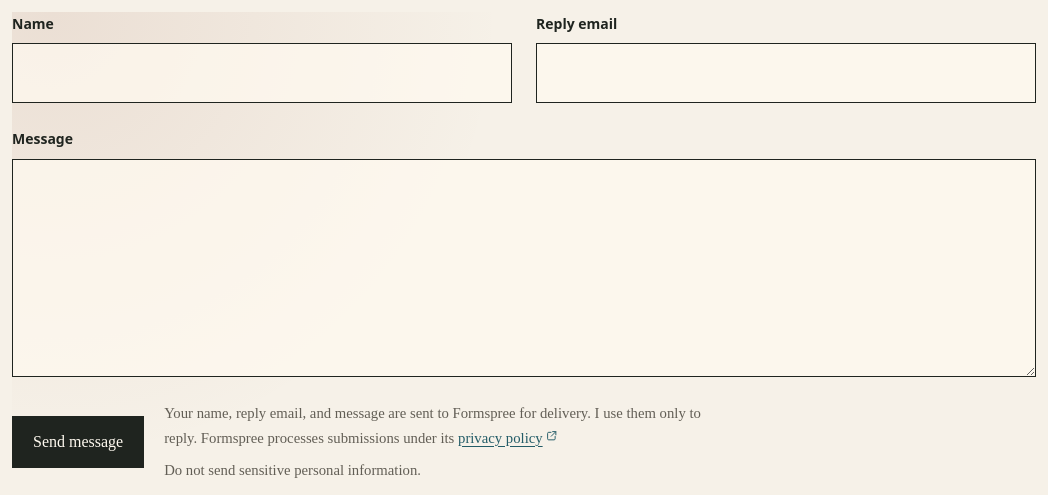
Test case: ContactForm › submits the form and confirms delivery without exposing an address
Type "Ada Lovelace" into the field labelled "Name" at (262, 73), box left=12, top=43, right=512, bottom=104
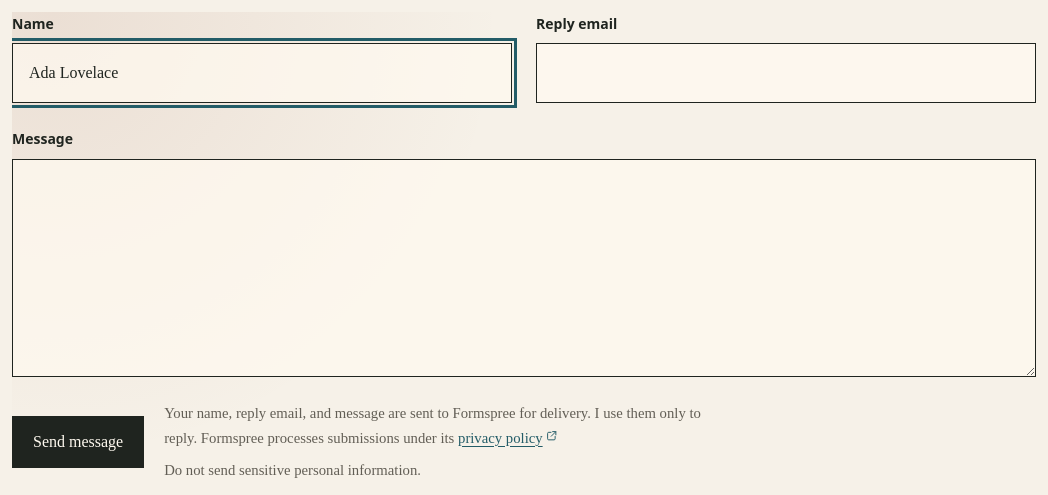
Type "ada@example.test" into the field labelled "Reply email" at (786, 73), box left=536, top=43, right=1036, bottom=104
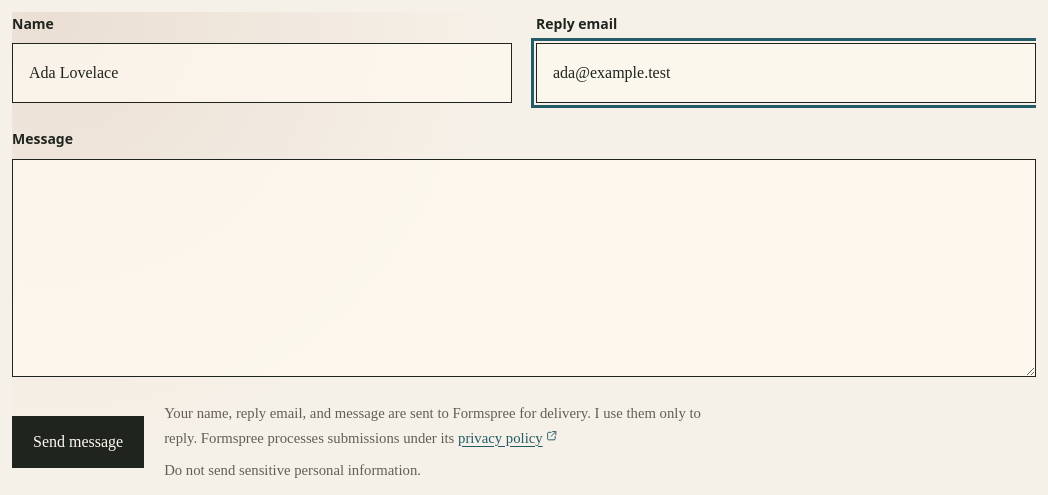
Type "I would like to discuss a reliable agent workflow." into the text box labelled "Message" at (524, 268), box left=12, top=159, right=1036, bottom=377
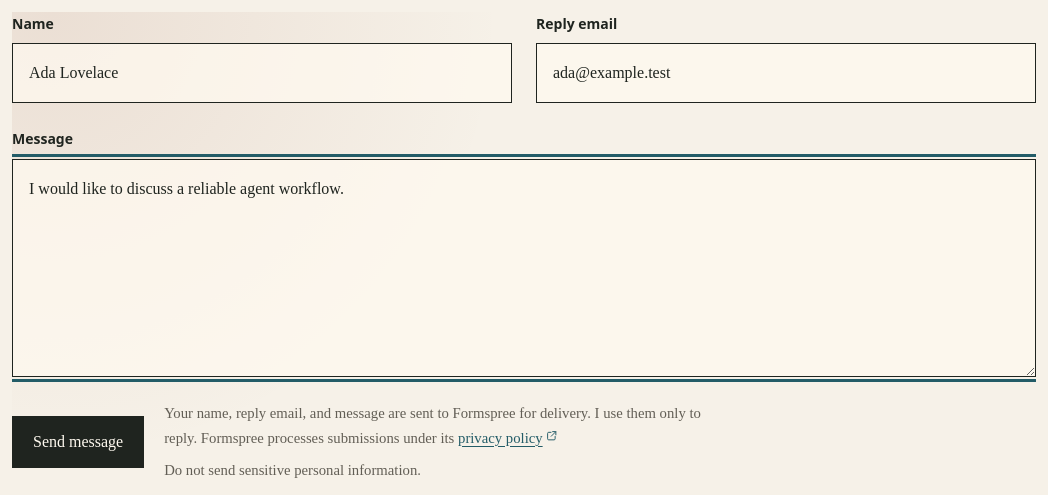
Click the button "Send message" at (78, 442), box left=12, top=416, right=144, bottom=468
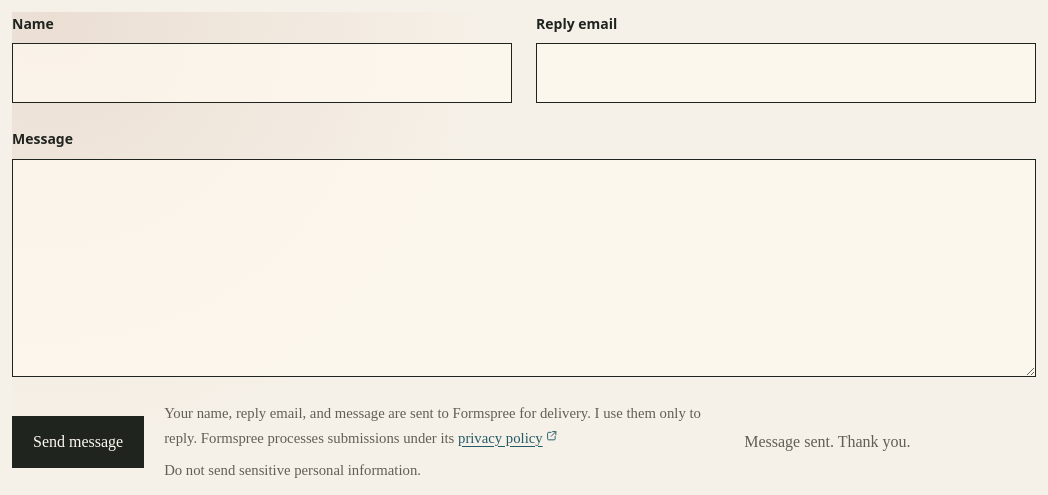
Result: the message shows "Message sent" at left=744, top=432, right=910, bottom=450
Result: the field labelled "Name" is empty at left=12, top=43, right=512, bottom=104
Result: the field labelled "Reply email" is empty at left=536, top=43, right=1036, bottom=104
